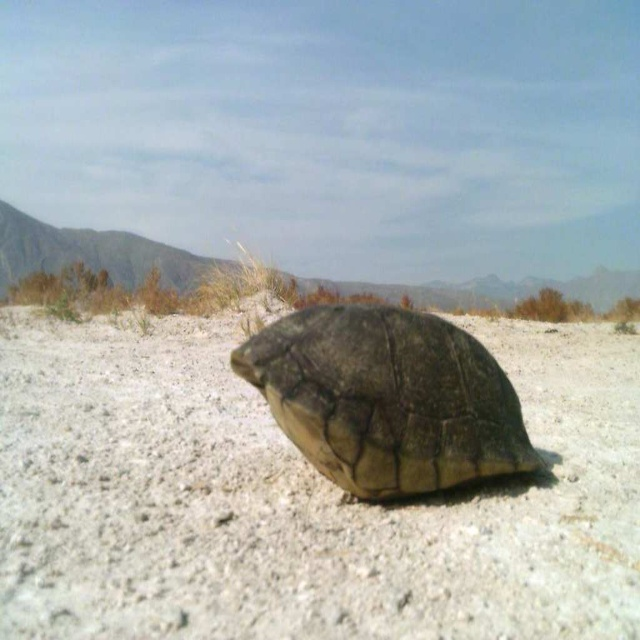Sea turtle: (230, 304, 548, 501)
